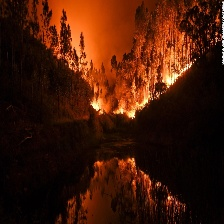fire: (138, 62, 194, 110), (92, 98, 138, 122)
smoke: (62, 8, 134, 92)
